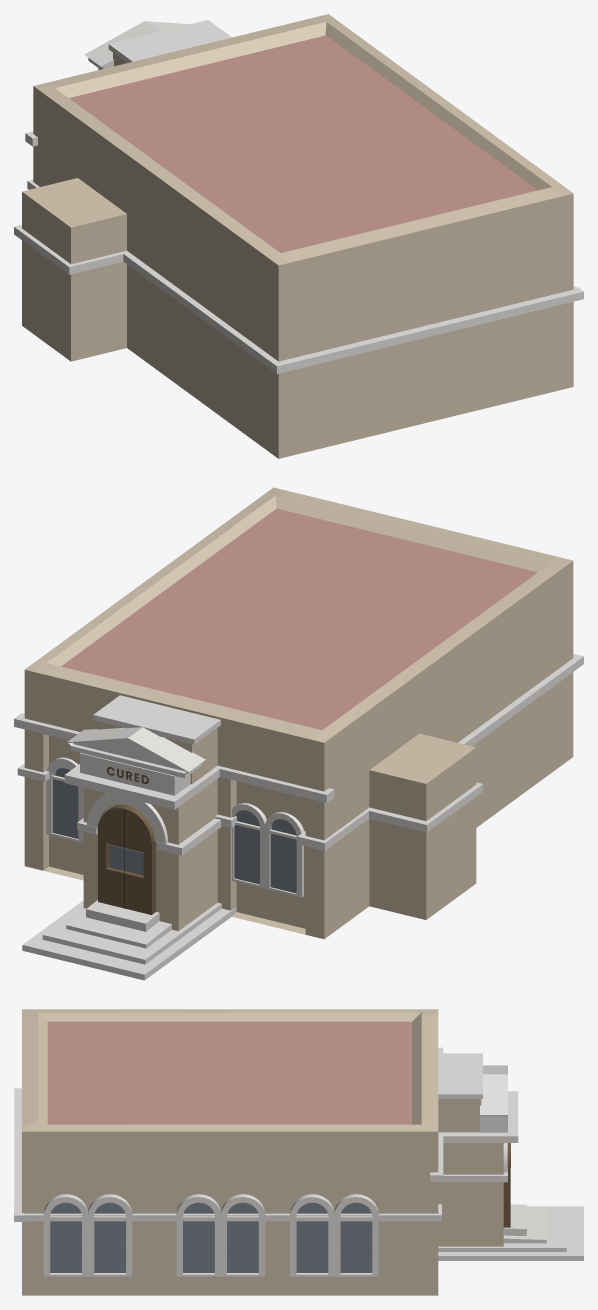
Rendered from pearl_cured.glb.
3 renders of one model, top to bottom at view 1: azimuth 30°, elevation 25°; view 2: azimuth 150°, elevation 25°; view 3: azimuth 270°, elevation 25°, orthographic. The views are drawn at different scales.
Parts seen in each view (by area): view 1: Merged Geometry, Rectangle, Cube 11, Cube, Cube 10, Cube 9, Cube 3; view 2: Merged Geometry, Rectangle, Merged Geometry 2, rect glass (×3), Cube 3, Cube 12, Cube, Cube 13, trim (×3), Cube 4, Cube 6 (×2), Cube 2 (+8 smaller); view 3: Merged Geometry, Rectangle, rect glass (×6), trim (×6), Cube 4 (×2), trim top (×6), Cube 12, Cube, Cube 13, Cube 3, Cube 11, Cube 5 (×2) (+4 smaller).
Part boxes in pixels (<box>): Merged Geometry: <box>22,14,573,458</box>; Rectangle: <box>69,35,537,252</box>; Cube 11: <box>271,287,583,373</box>; Cube: <box>108,20,231,62</box>; Cube 10: <box>121,250,284,372</box>; Cube 9: <box>14,225,124,274</box>; Cube 3: <box>84,21,188,69</box>; Merged Geometry: <box>24,487,573,939</box>; Rectangle: <box>61,508,537,729</box>; Merged Geometry 2: <box>97,804,155,914</box>; rect glass (×3): <box>52,779,296,893</box>; Cube 3: <box>67,727,205,778</box>; Cube 12: <box>22,900,236,980</box>; Cube: <box>93,695,220,744</box>; Cube 13: <box>42,902,221,964</box>; trim (×3): <box>46,775,303,897</box>; Cube 4: <box>64,764,219,809</box>; Cube 6 (×2): <box>157,766,334,855</box>; Cube 2: <box>80,753,190,795</box>; Merged Geometry: <box>22,1009,503,1295</box>; Rectangle: <box>47,1021,411,1124</box>; rect glass (×6): <box>50,1221,372,1272</box>; trim (×6): <box>43,1216,378,1276</box>; Cube 4 (×2): <box>14,1091,518,1221</box>; trim top (×6): <box>43,1194,378,1217</box>; Cube 12: <box>438,1206,583,1260</box>; Cube: <box>438,1053,482,1098</box>; Cube 13: <box>438,1206,566,1251</box>; Cube 3: <box>480,1065,507,1119</box>; Cube 11: <box>14,1088,24,1221</box>; Cube 5 (×2): <box>430,1132,507,1182</box>.
Size of the model in its own units: 17.09 by 8.81 by 27.38.
Materials: 16 (1 with a texture image).
